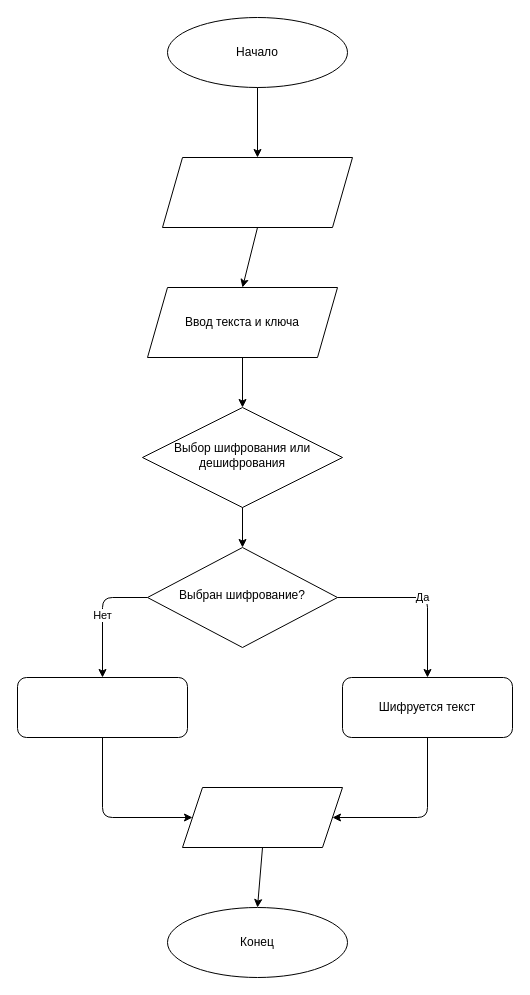
Some shapes in this 530 by 995 pixel diagram are drawn without their labels. Here are the shapes that lost their labels. From the top down, the centre of each, then its label:
At [257,192]: "Авторизация (Ввод логина и пароля)".
At [102,707]: "Дешифруется текст".
At [262,817]: "Текст".
